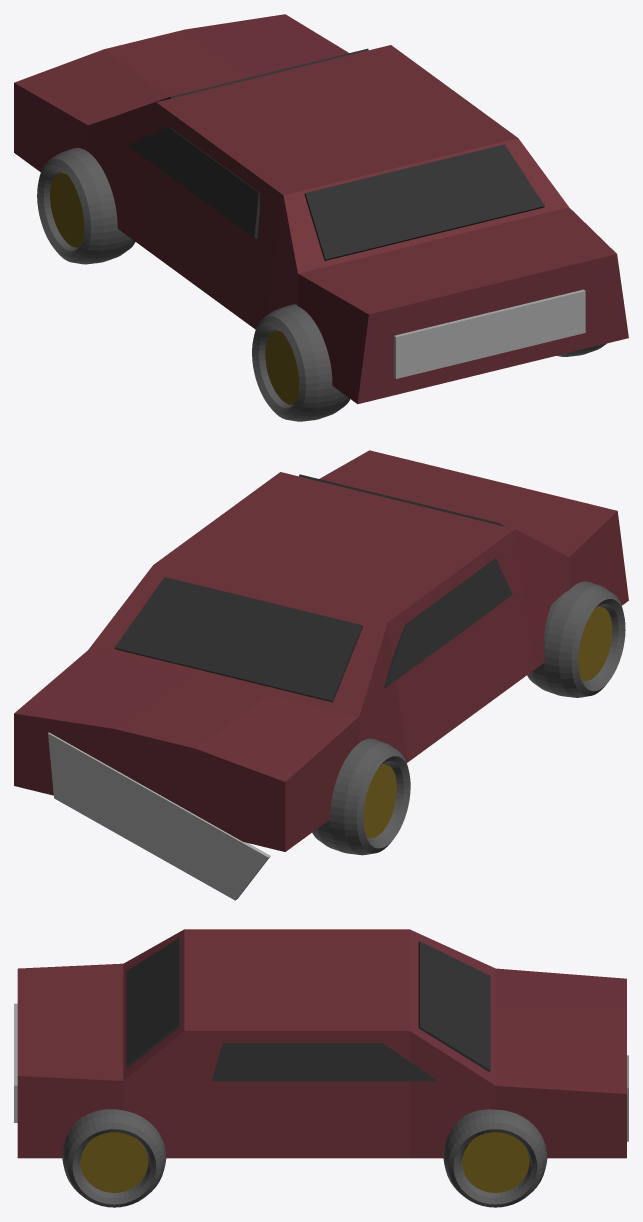
The model's file is Car.fbx.
3 renders of one model, top to bottom at view 1: azimuth 30°, elevation 25°; view 2: azimuth 150°, elevation 25°; view 3: azimuth 270°, elevation 25°, orthographic. The views are drawn at different scales.
Visible parts, largest first — view 1: Cube.015; view 2: Cube.015; view 3: Cube.015.
Boxes of the visible parts, left/top/right/bottom form: Cube.015: left=14, top=14, right=628, bottom=421; Cube.015: left=14, top=450, right=628, bottom=900; Cube.015: left=14, top=929, right=628, bottom=1207.
Bounding box in the file's own units: 798 × 460 × 1484.
